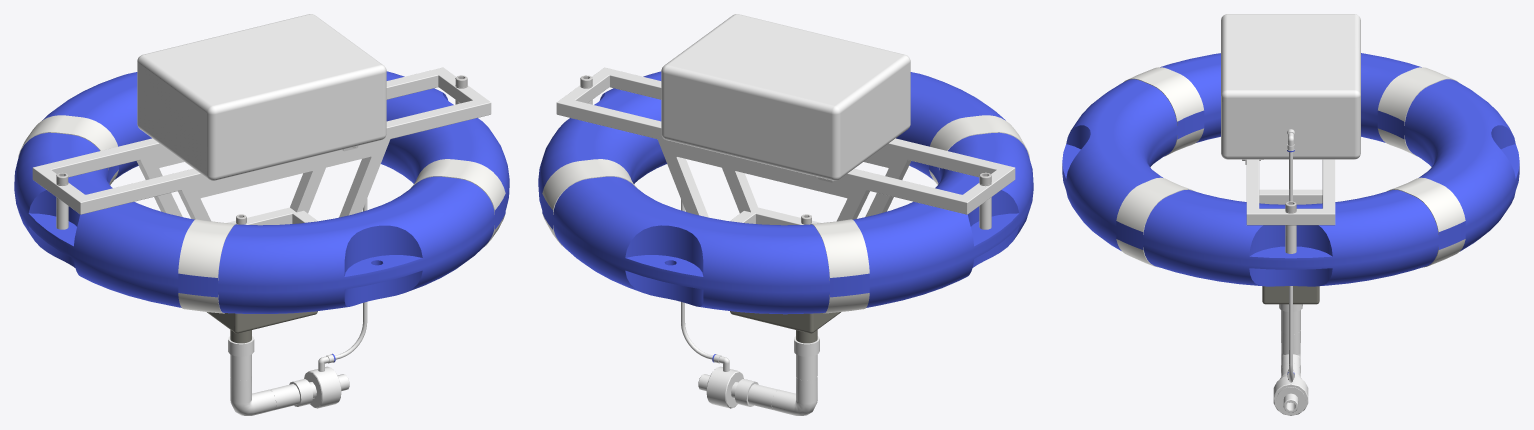
The picture shows the model from 3 angles, left to right: view 1: azimuth 30°, elevation 25°; view 2: azimuth 150°, elevation 25°; view 3: azimuth 270°, elevation 25°; orthographic projection. The views are drawn at different scales.
Visible parts, largest first — view 1: Mycrofish 28 Oktober 2021; view 2: Mycrofish 28 Oktober 2021; view 3: Mycrofish 28 Oktober 2021.
Part boxes in pixels (left/top/right/bottom): Mycrofish 28 Oktober 2021: left=14, top=14, right=509, bottom=415; Mycrofish 28 Oktober 2021: left=538, top=14, right=1033, bottom=415; Mycrofish 28 Oktober 2021: left=1062, top=14, right=1519, bottom=415.
Size of the model in its own units: 3.6 by 2.89 by 3.6.
